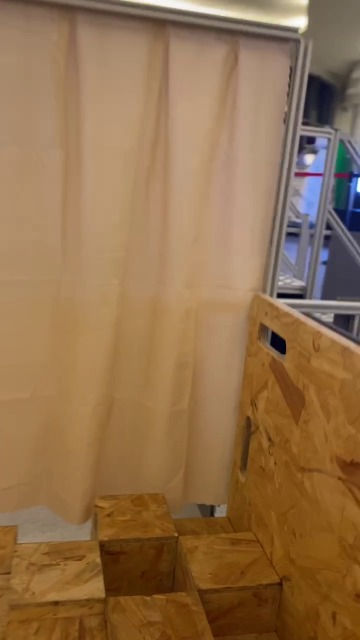curtain: (0, 13, 292, 506)
